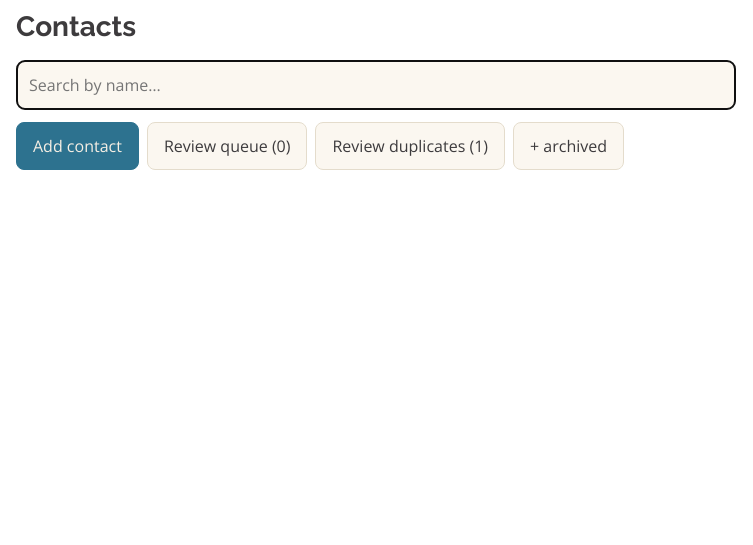
held merges in the review queue (feature 069) › tells the user immediately when a merge is HELD rather than completing
Click the button "Review duplicates (1)" at (410, 146), box [316,122,505,170]
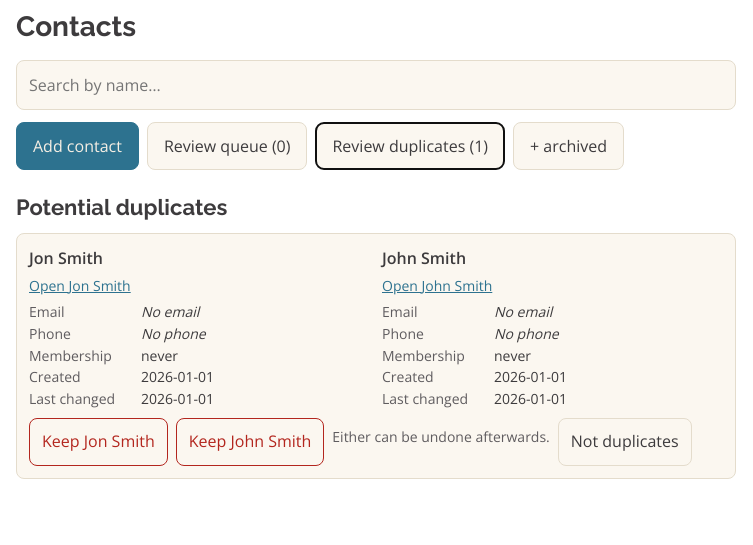
Click the button "Keep Jon Smith" at (98, 442), box [29,418,168,466]
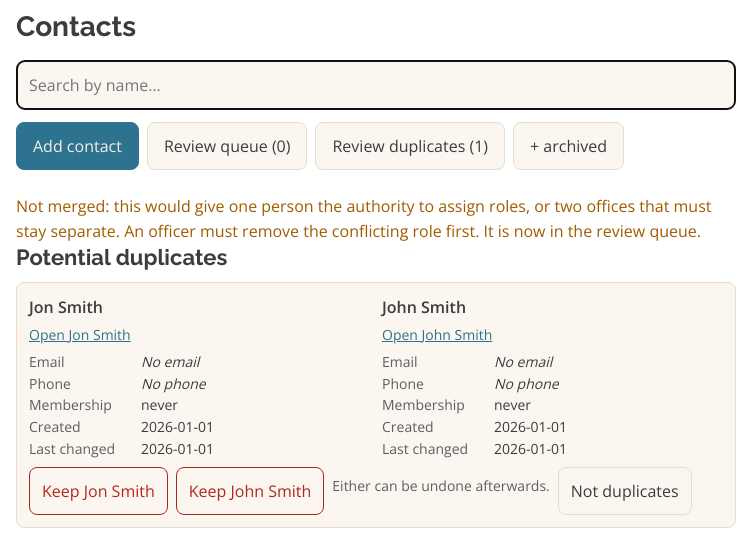
Expected: the text "Not merged" is shown, [16,195,712,242]
